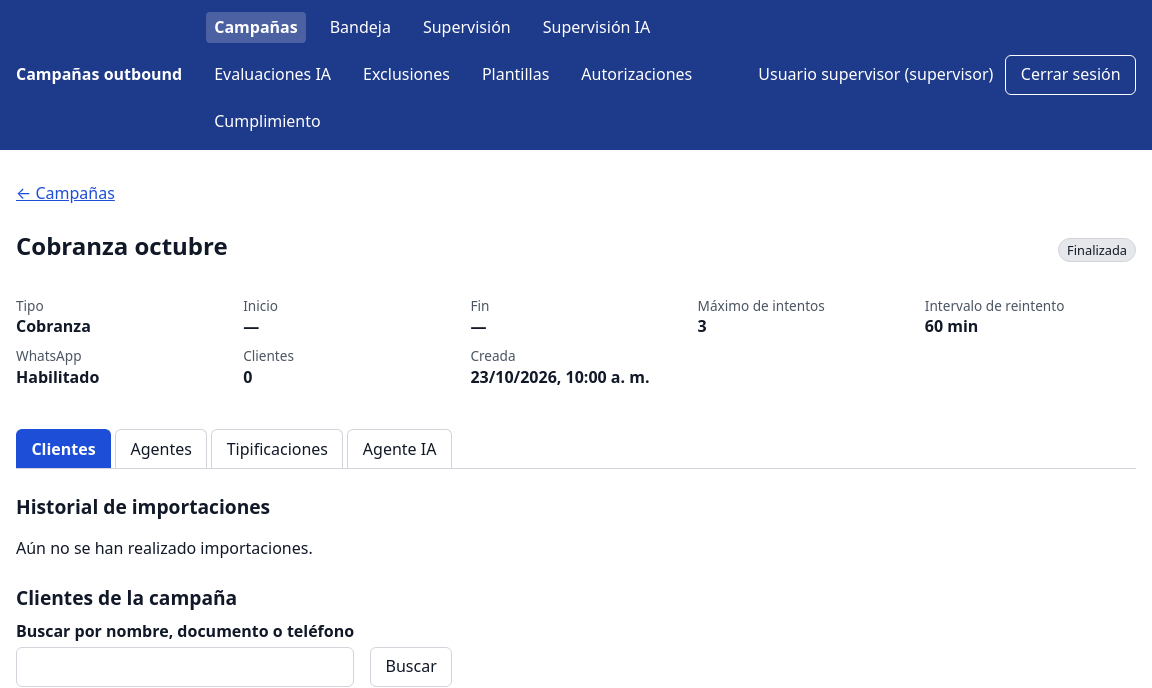
Test case: Configuración IA de la campaña (F20) › campaña finalizada: el formulario queda deshabilitado
Click the tab "Agente IA".
click(400, 449)  # box [347,429,452,468]
(page scrolled)
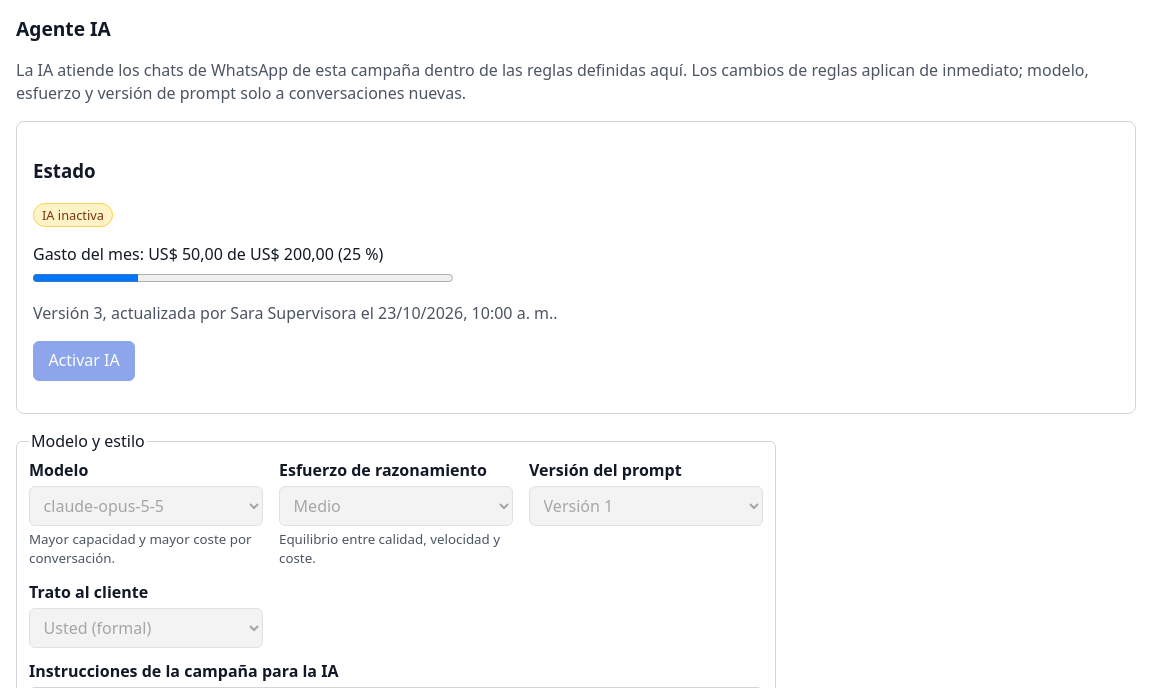
Expected: the dropdown labelled "Modelo" is disabled, [29,486,263,526]
Expected: the button "Activar IA" is disabled, [33,341,135,381]
